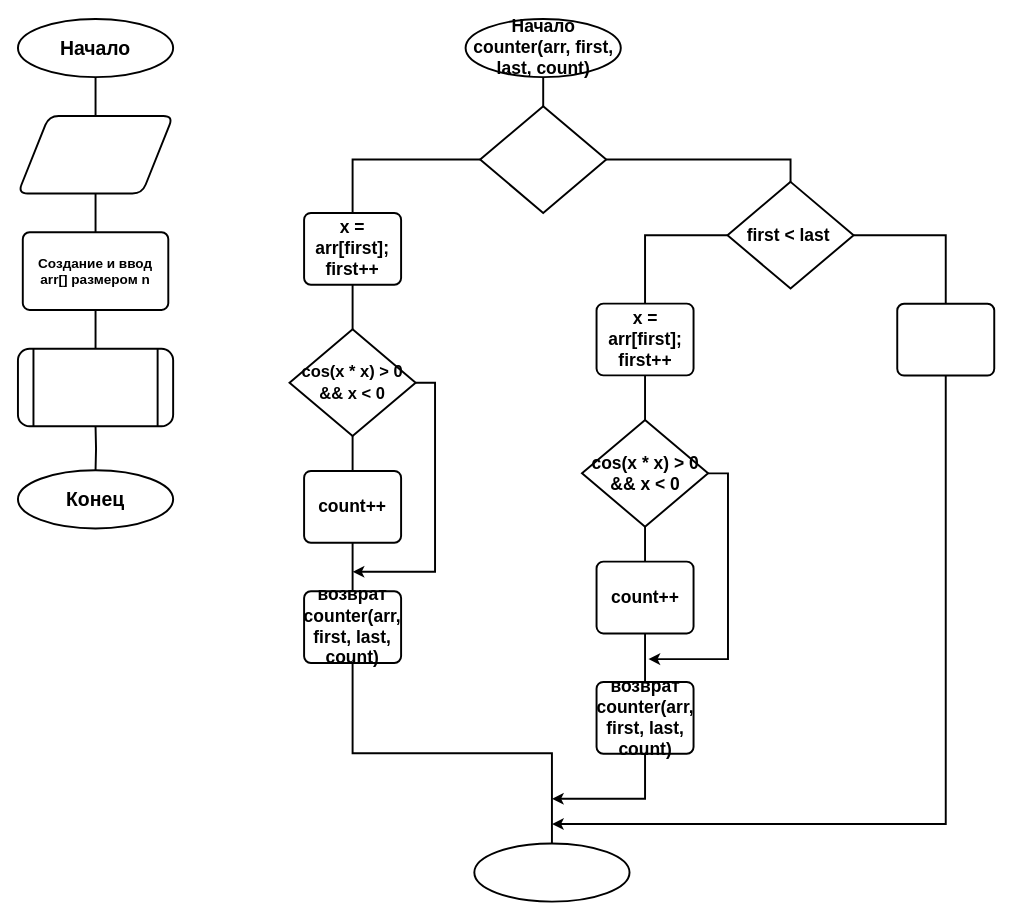
Image size: 1012x920. Some labels were removed from this diagram. Here are the shapes that lost their labels. From the top down, the centre of each, then its label:
At pixel 95 154: "Ввод n".
At pixel 543 159: "first < last / 3".
At pixel 945 339: "возврат count".
At pixel 95 387: "Вывод counter(arr, 0, n, 0)".
At pixel 551 872: "Конец counter".
